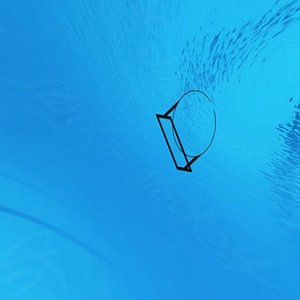circle: (154, 89, 217, 174)
